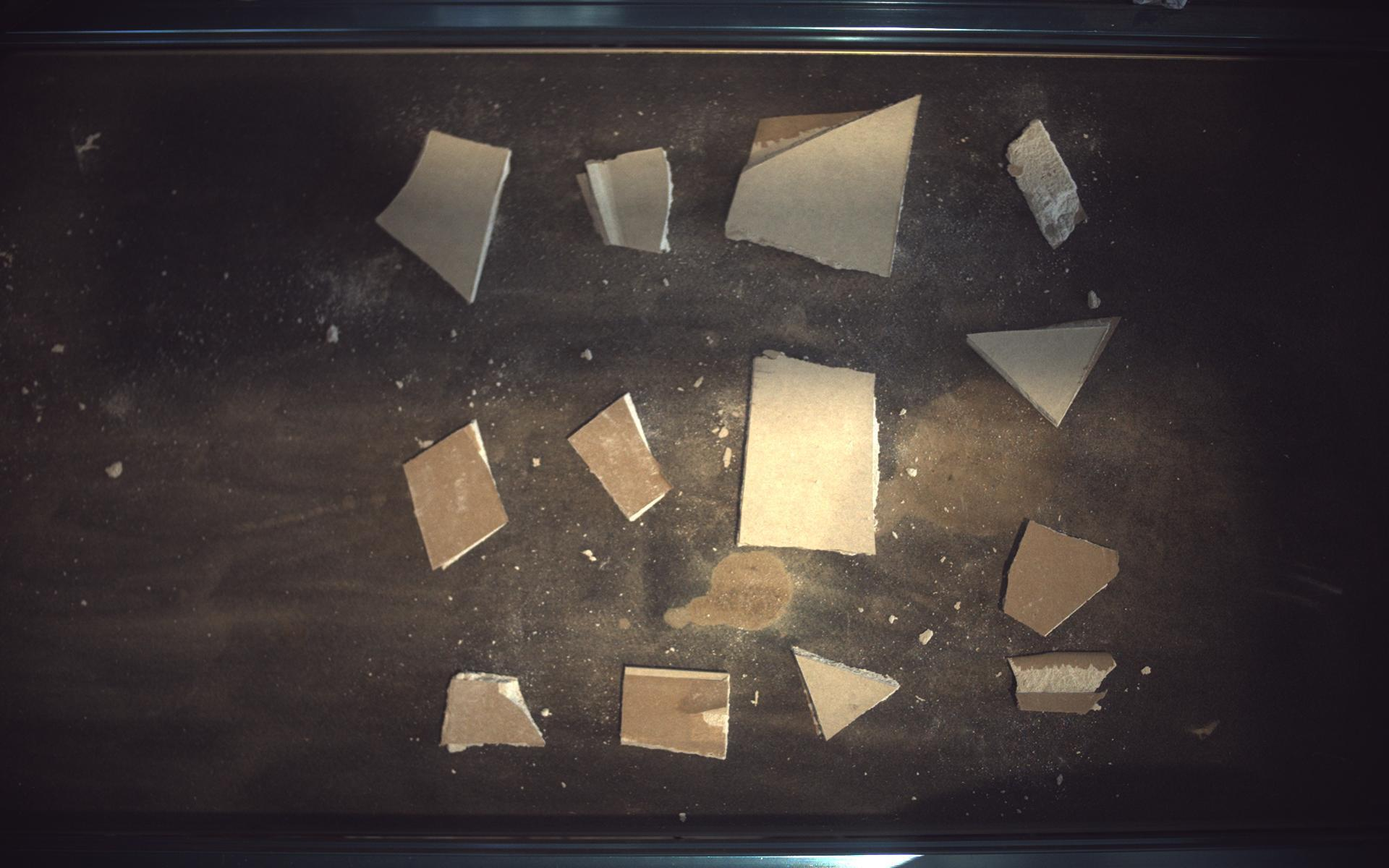gypsum_board: (726, 94, 922, 276), (739, 349, 881, 556), (375, 129, 511, 302), (969, 318, 1123, 427), (404, 420, 508, 570), (569, 393, 672, 522), (1006, 522, 1121, 637), (1008, 119, 1090, 248), (577, 146, 674, 252), (793, 647, 901, 741), (623, 668, 731, 761), (441, 673, 545, 753), (1010, 653, 1119, 715)
